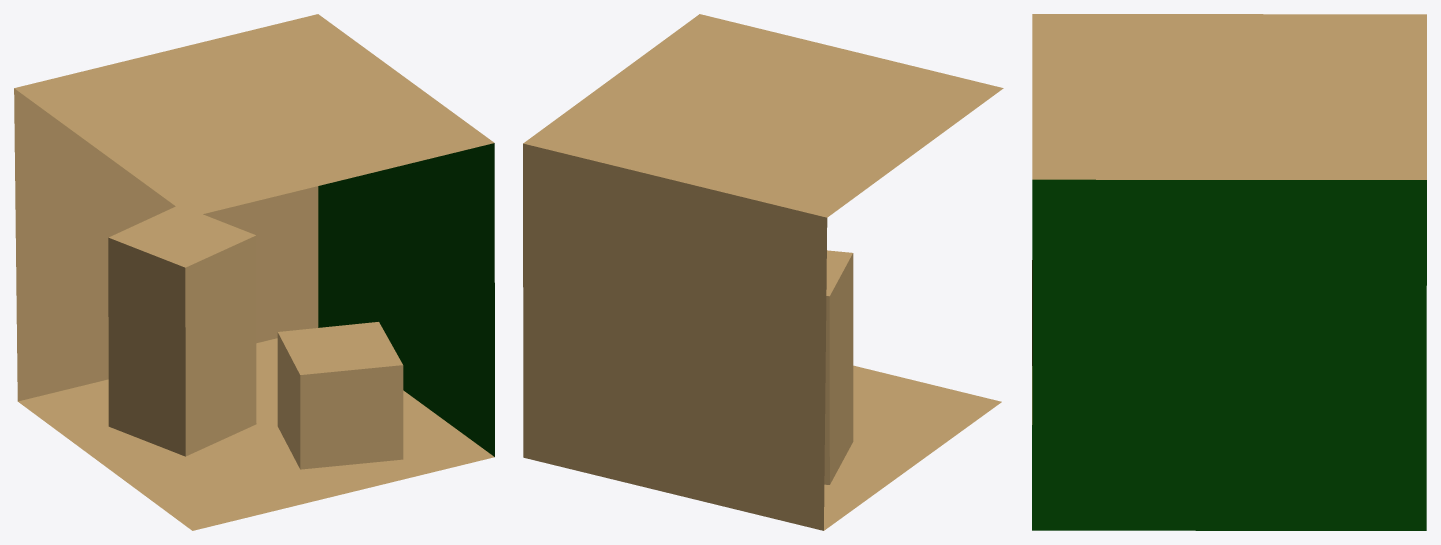
The model's file is cornell_blocked.obj.
The picture shows the model from 3 angles, left to right: view 1: azimuth 30°, elevation 25°; view 2: azimuth 150°, elevation 25°; view 3: azimuth 270°, elevation 25°; orthographic projection. The views are drawn at different scales.
Visible parts, largest first — view 1: ceiling, right_wall, back_wall, tall_box, floor, short_box; view 2: back_wall, ceiling, floor, tall_box; view 3: right_wall, ceiling.
Boxes of the visible parts, box(x1,y1,x2,y2) form: ceiling: box(14, 14, 494, 216); right_wall: box(318, 143, 494, 456); back_wall: box(14, 88, 318, 401); tall_box: box(108, 206, 256, 456); floor: box(18, 338, 494, 530); short_box: box(277, 322, 403, 469); back_wall: box(523, 143, 827, 530); ceiling: box(523, 14, 1003, 217); floor: box(824, 365, 1001, 530); tall_box: box(824, 250, 853, 484); right_wall: box(1032, 179, 1426, 530); ceiling: box(1032, 14, 1426, 179).
Size of the model in its own units: 5.56 by 5.49 by 5.6.
